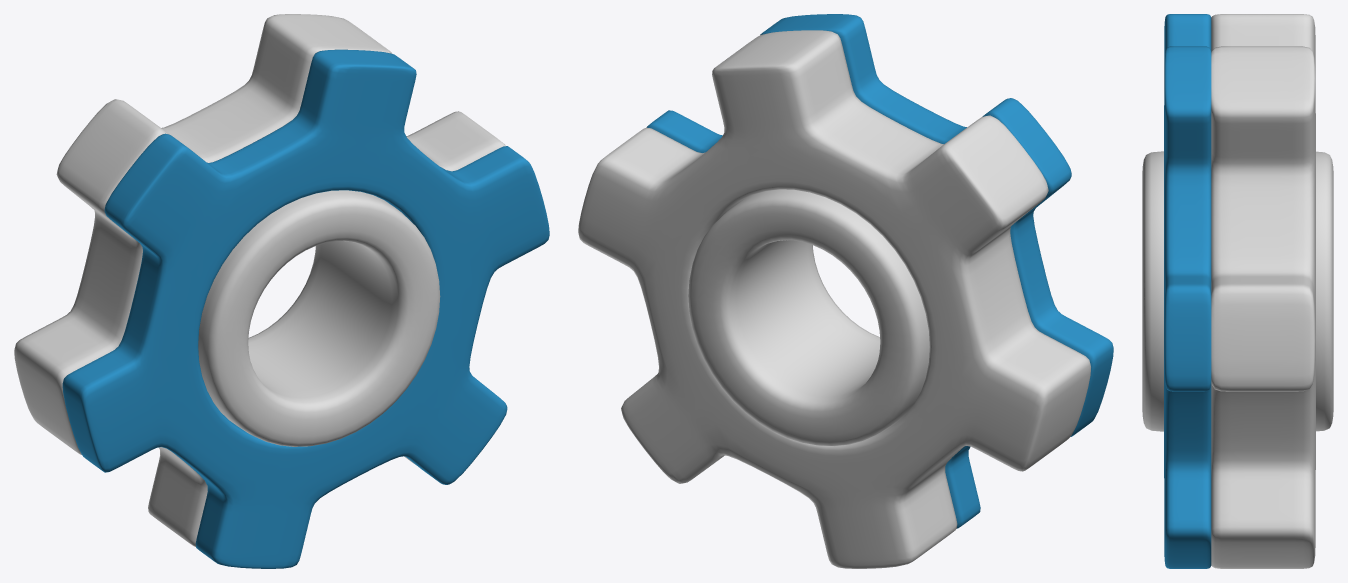
Rendered from gear-animated-3d-icon-538533589731.glb.
3 views of the same model, side by side, from view 1: azimuth 30°, elevation 25°; view 2: azimuth 150°, elevation 25°; view 3: azimuth 270°, elevation 25° (orthographic). The views are drawn at different scales.
Parts seen in each view (by area): view 1: Gear 1, Circle.003, Gear 2; view 2: Gear 2, Circle.003, Gear 1; view 3: Gear 2, Gear 1, Circle.003.
Part boxes in pixels (x1,y1,x2,y2): Gear 1: (62,49,549,568); Circle.003: (198,190,440,446); Gear 2: (14,14,505,546); Gear 2: (578,30,1090,568); Circle.003: (688,189,929,446); Gear 1: (646,14,1113,528); Gear 2: (1211,14,1315,568); Gear 1: (1164,14,1211,568); Circle.003: (1142,151,1333,431).
Bounding box in the file's own units: 2.69 × 2.69 × 0.9146.
